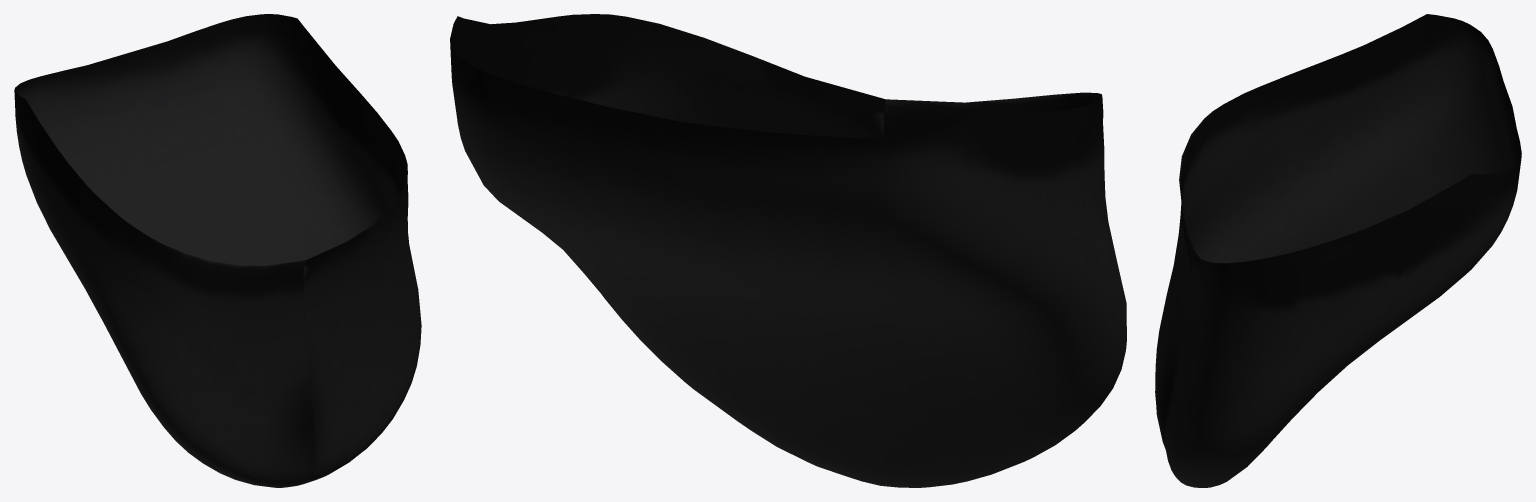
The model's file is trigger_right.obj.
3 renders of one model, left to right at view 1: azimuth 30°, elevation 25°; view 2: azimuth 150°, elevation 25°; view 3: azimuth 270°, elevation 25°, orthographic. The views are drawn at different scales.
Visible parts, largest first — view 1: trigger; view 2: trigger; view 3: trigger.
Part boxes in pixels (box(x1,y1,x2,y2)): trigger: box(14, 14, 421, 487); trigger: box(450, 14, 1126, 487); trigger: box(1155, 14, 1521, 487).
Bounding box in the file's own units: 0.0185 × 0.0194 × 0.0173.
Materials: 1 (1 with a texture image).
